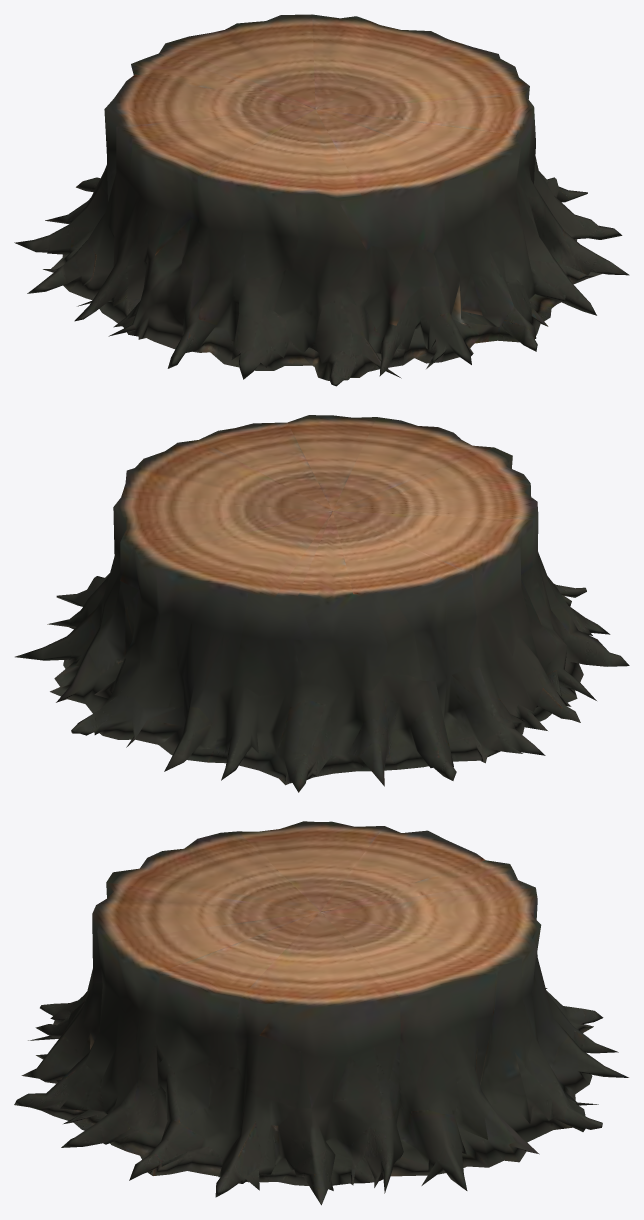
Rendered from stump.glb.
3 views of the same model, one above another, from view 1: azimuth 30°, elevation 25°; view 2: azimuth 150°, elevation 25°; view 3: azimuth 270°, elevation 25° (orthographic). The views are drawn at different scales.
Size of the model in its own units: 0.957 by 0.2715 by 0.9458.
Materials: 1 (1 with a texture image).
